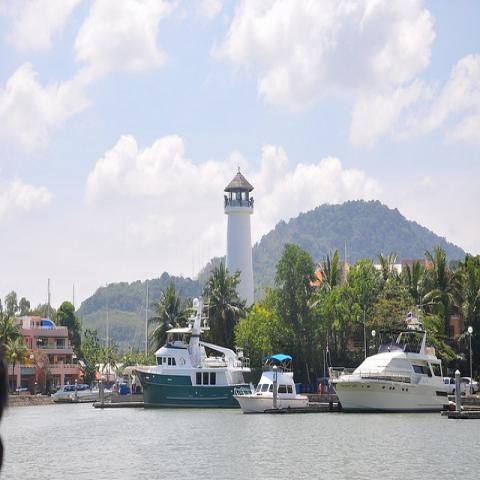car: (460, 377, 479, 396), (442, 378, 456, 395), (460, 383, 471, 396)
